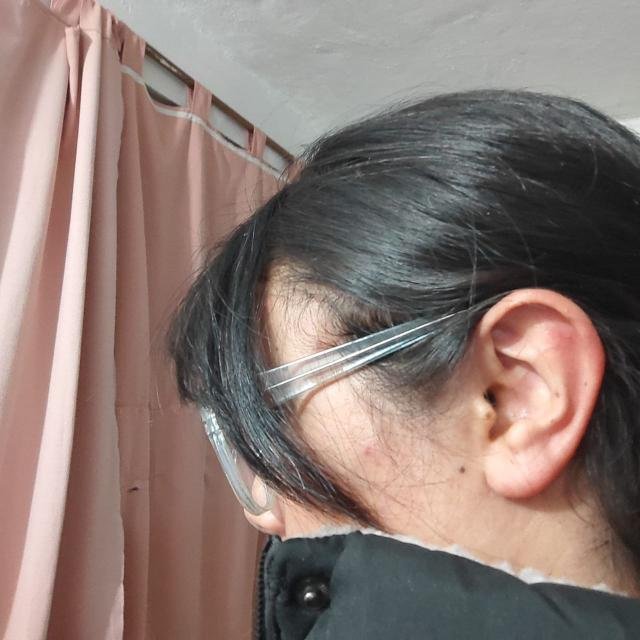ear: (470, 289, 605, 498)
